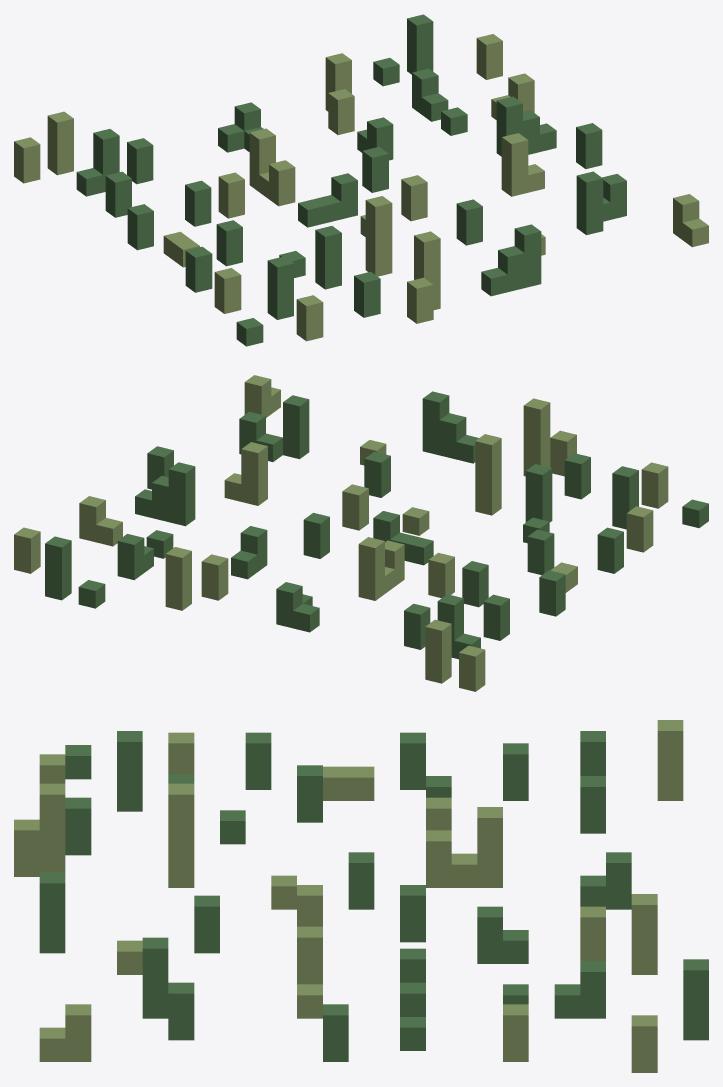
The model's file is TRAWA_CZ2.dae.
3 views of the same model, one above another, from view 1: azimuth 30°, elevation 25°; view 2: azimuth 150°, elevation 25°; view 3: azimuth 270°, elevation 25° (orthographic). The views are drawn at different scales.
Parts seen in each view (by area): view 1: Content; view 2: Content; view 3: Content.
Boxes of the visible parts, box(x1,y1,x2,y2) form: Content: box(14, 14, 708, 346); Content: box(14, 375, 708, 691); Content: box(14, 720, 708, 1072).
Bounding box in the file's own units: 28 × 4 × 27.
1 material, 1 textured.
